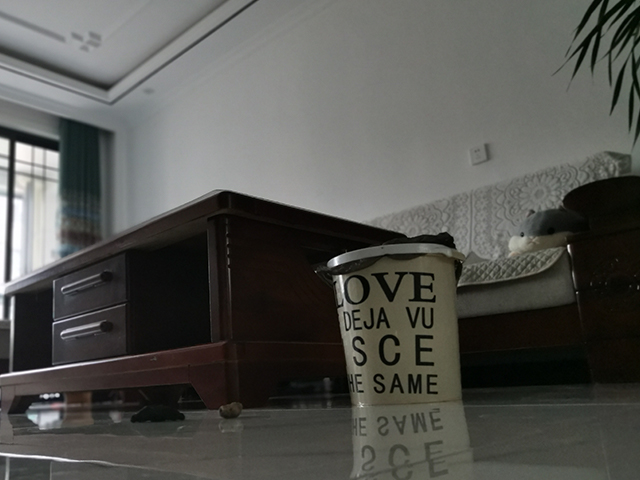feces: (127, 404, 187, 424), (216, 399, 244, 420)
sofa: (458, 157, 640, 392)
table: (1, 187, 410, 410)
trashcan: (323, 241, 468, 408)
